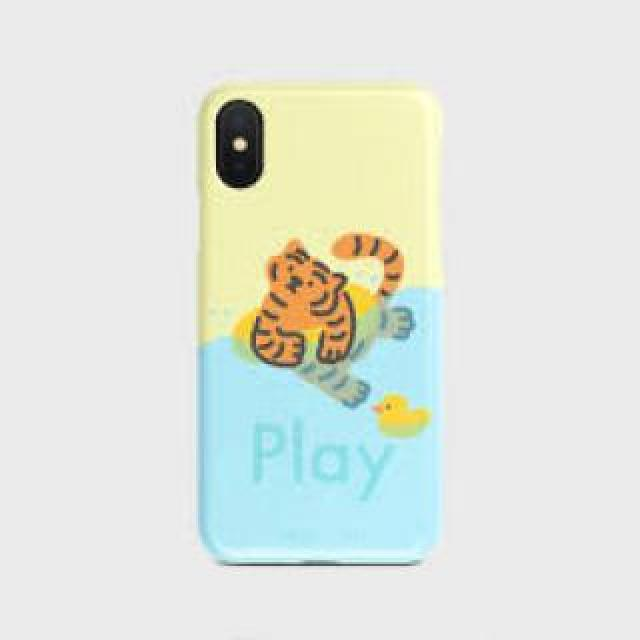smart phone: (178, 47, 457, 595)
